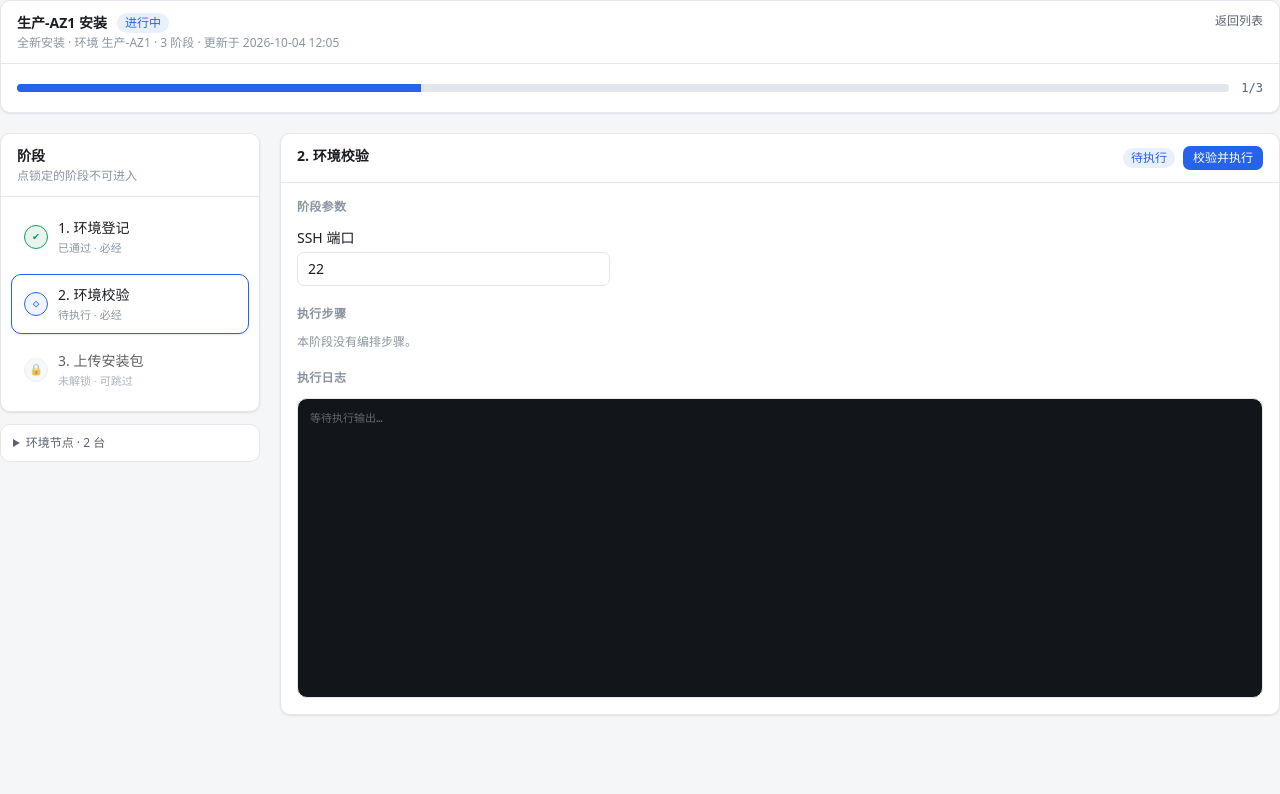
Test: FlowWizard 页头与落点 › 点已通过的阶段回看：表单按该阶段 inputs 回填
Check: the text "生产-AZ1 安装" is shown, box x1=17 y1=13 x2=107 y2=32
Step 1. Click the button "✔ 1. 环境登记 已通过 · 必经" → (130, 237), box x1=11 y1=207 x2=249 y2=268
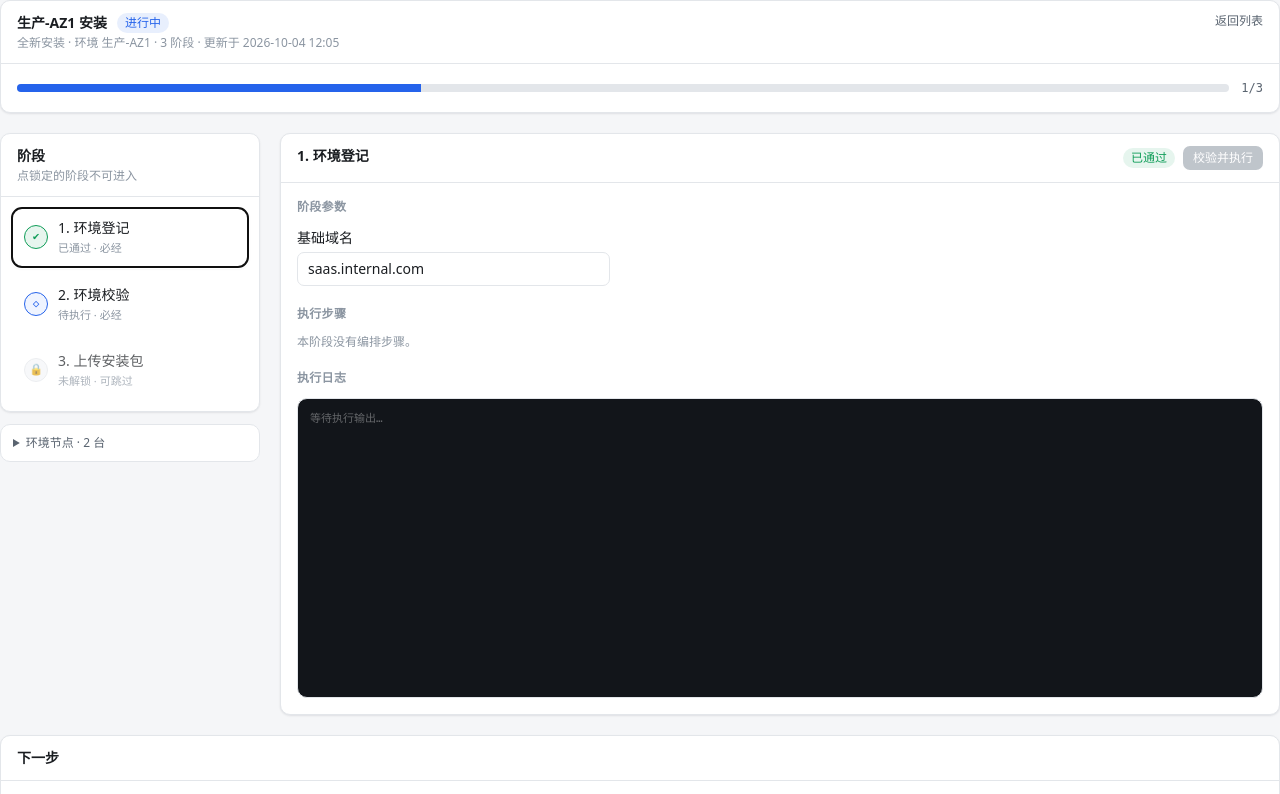
Check: the heading "1. 环境登记" is shown, box x1=297 y1=146 x2=369 y2=166
Check: the field labelled "基础域名" holds "saas.internal.com", box x1=297 y1=252 x2=610 y2=286
